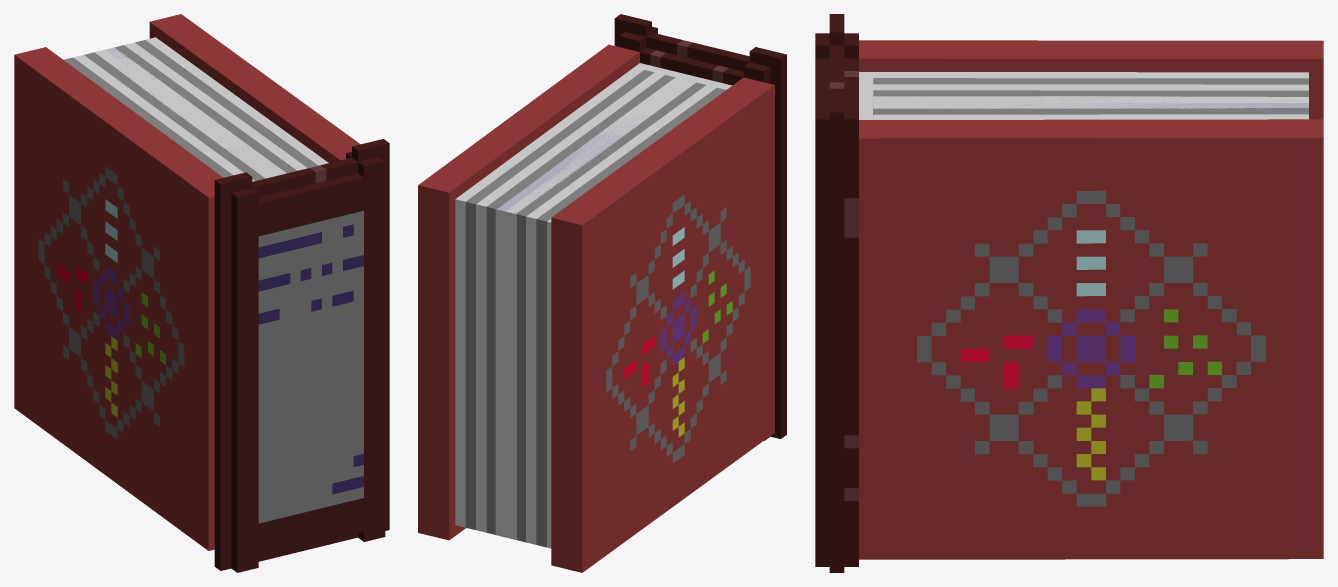
The model's file is Spellbook.fbx.
3 views of the same model, side by side, from view 1: azimuth 30°, elevation 25°; view 2: azimuth 150°, elevation 25°; view 3: azimuth 270°, elevation 25° (orthographic). The views are drawn at different scales.
Parts seen in each view (by area): view 1: Untitled.007, Untitled.002, Untitled.005, Untitled.004, Untitled.006, Untitled.001; view 2: Untitled.007, Untitled.005, Untitled.004, Untitled.006, Untitled.002, Untitled.001, Untitled.003; view 3: Untitled.005, Untitled.002, Untitled.007, Untitled.006, Untitled.004, Untitled.001, Untitled.003.
Part boxes in pixels (bbox=[...]): Untitled.007: bbox=[14, 47, 223, 550]; Untitled.002: bbox=[214, 139, 389, 572]; Untitled.005: bbox=[149, 14, 360, 162]; Untitled.004: bbox=[114, 37, 328, 173]; Untitled.006: bbox=[63, 49, 265, 181]; Untitled.001: bbox=[105, 47, 286, 178]; Untitled.007: bbox=[551, 77, 774, 572]; Untitled.005: bbox=[418, 44, 639, 540]; Untitled.004: bbox=[455, 67, 675, 534]; Untitled.006: bbox=[506, 82, 725, 548]; Untitled.002: bbox=[614, 14, 786, 440]; Untitled.001: bbox=[495, 77, 695, 539]; Untitled.003: bbox=[497, 79, 693, 212]; Untitled.005: bbox=[859, 119, 1323, 559]; Untitled.002: bbox=[815, 14, 873, 572]; Untitled.007: bbox=[859, 40, 1323, 119]; Untitled.006: bbox=[873, 72, 1308, 102]; Untitled.004: bbox=[873, 108, 1308, 119]; Untitled.001: bbox=[873, 96, 1308, 108]; Untitled.003: bbox=[873, 96, 1308, 108].
Size of the model in its own units: 25.6 by 56.01 by 56.
